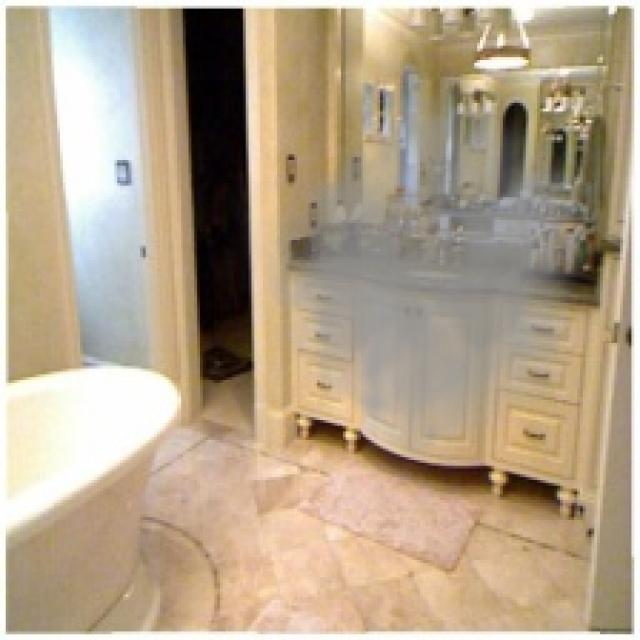smoke: (226, 71, 600, 480)
